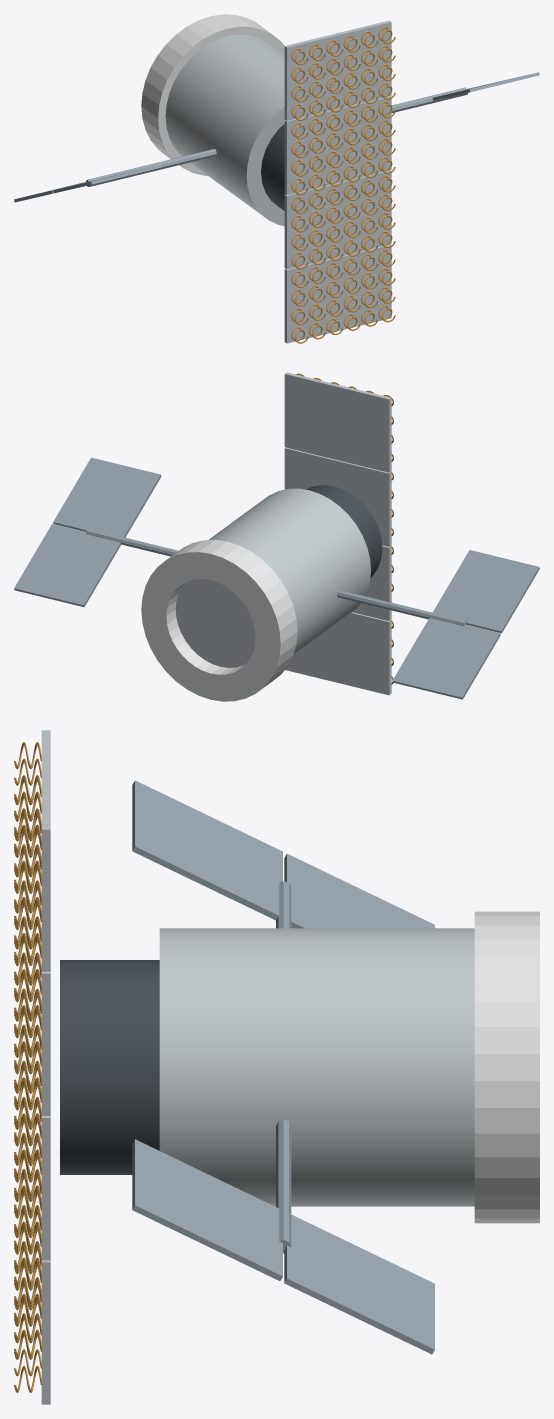
The model's file is ref-ekran-9503.glb.
3 renders of one model, top to bottom at view 1: azimuth 30°, elevation 25°; view 2: azimuth 150°, elevation 25°; view 3: azimuth 270°, elevation 25°, orthographic. The views are drawn at different scales.
Parts seen in each view (by area): view 1: Broadcast antenna panel (×4), Pressurized body, Thermal control ring, Broadcast deck pedestal, Paddle boom (×2), Solar paddle (×2); view 2: Solar paddle (×4), Broadcast antenna panel (×4), Pressurized body, Thermal control ring, Broadcast deck pedestal, Paddle boom (×2); view 3: Pressurized body, Solar paddle (×4), Broadcast deck pedestal, Thermal control ring, Broadcast antenna panel (×4), Paddle boom.
Part boxes in pixels (x1,y1,x2,y2): Broadcast antenna panel (×4): (284, 20, 391, 343); Pressurized body: (165, 34, 284, 226); Thermal control ring: (141, 14, 284, 175); Broadcast deck pedestal: (261, 124, 285, 210); Paddle boom (×2): (86, 87, 467, 186); Solar paddle (×2): (53, 72, 539, 193); Solar paddle (×4): (14, 457, 539, 699); Broadcast antenna panel (×4): (284, 372, 391, 695); Pressurized body: (175, 488, 370, 667); Thermal control ring: (141, 539, 297, 701); Broadcast deck pedestal: (306, 485, 382, 577); Paddle boom (×2): (86, 529, 466, 626); Pressurized body: (159, 928, 474, 1206); Solar paddle (×4): (132, 780, 434, 1354); Broadcast deck pedestal: (60, 960, 159, 1174); Thermal control ring: (474, 911, 539, 1223); Broadcast antenna panel (×4): (41, 730, 50, 1404); Paddle boom: (276, 1119, 291, 1253).
Bounding box in the file's own units: 9 × 5.68 × 4.71.
